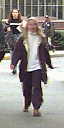person: (20, 18, 50, 114)
